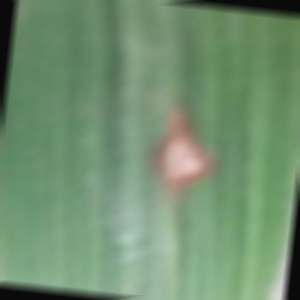Brown_Spot: (148, 98, 227, 215)
